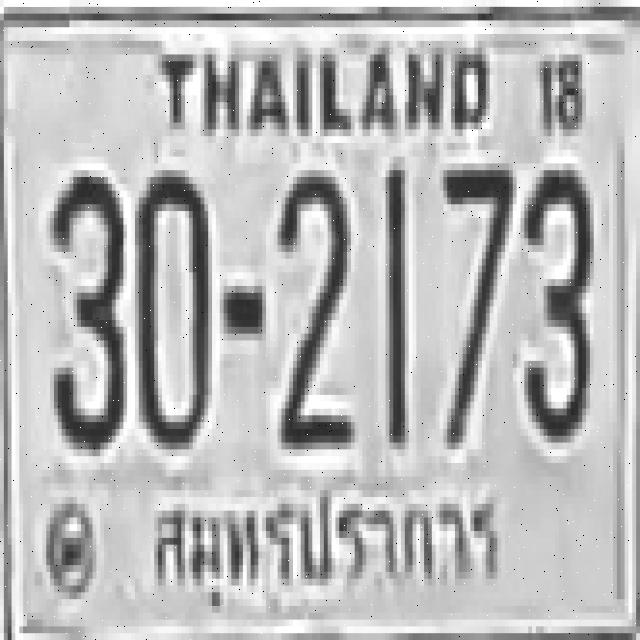0: (135, 164, 212, 452)
1: (382, 160, 405, 439)
2: (278, 164, 358, 456)
3: (48, 167, 126, 449), (520, 164, 594, 448)
7: (440, 156, 516, 448)
SamutPrakan: (138, 472, 510, 616)
